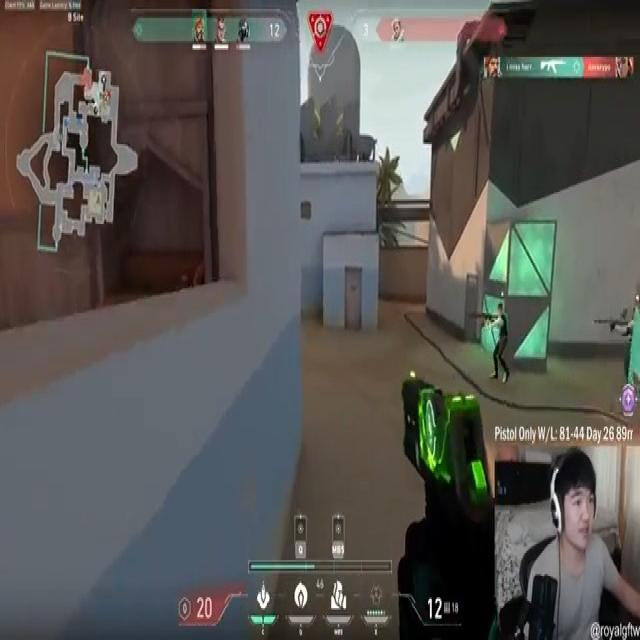ally: (603, 297, 640, 379), (484, 298, 511, 389)
